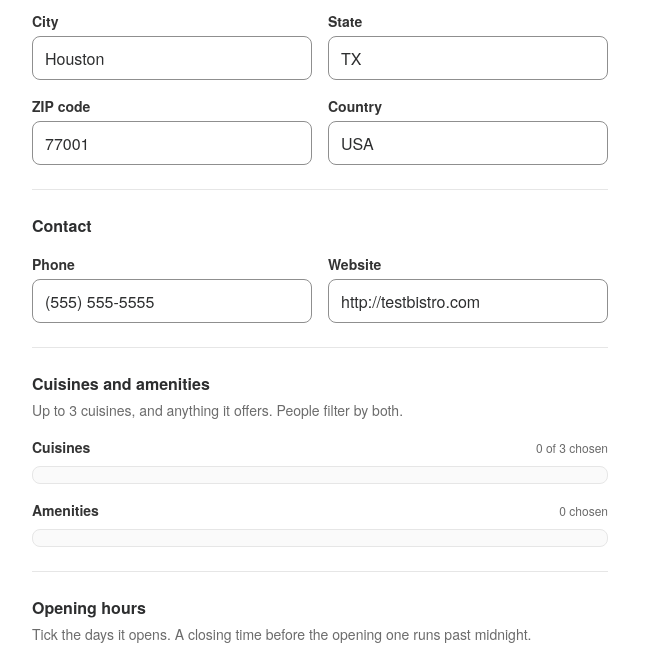
Test: client-side validation blocks the request entirely
(page scrolled)
Note: A website with no dot fails the shared rules.
Replace the text in the field showing "http://testbistro.com" with "notaurl" at (468, 301), box x1=328 y1=279 x2=608 y2=323
(page scrolled)
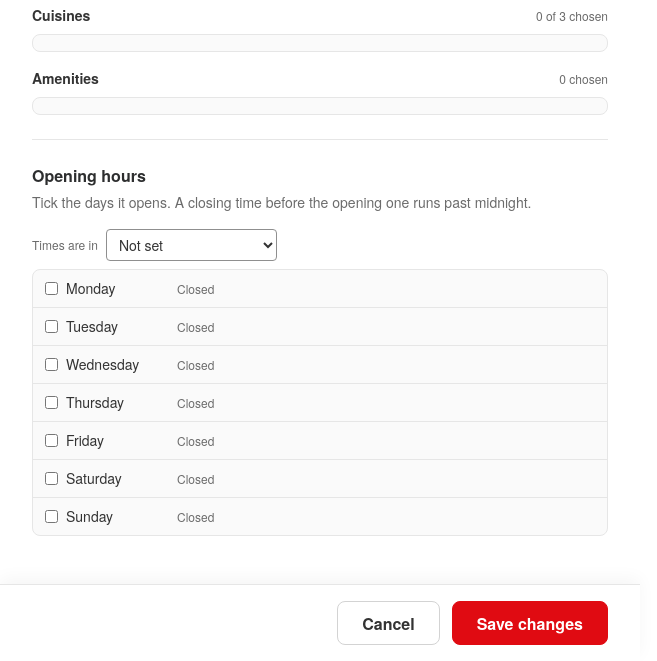
Click the button "Save changes".
click(530, 623)  # box x1=452 y1=601 x2=608 y2=645
(page scrolled)
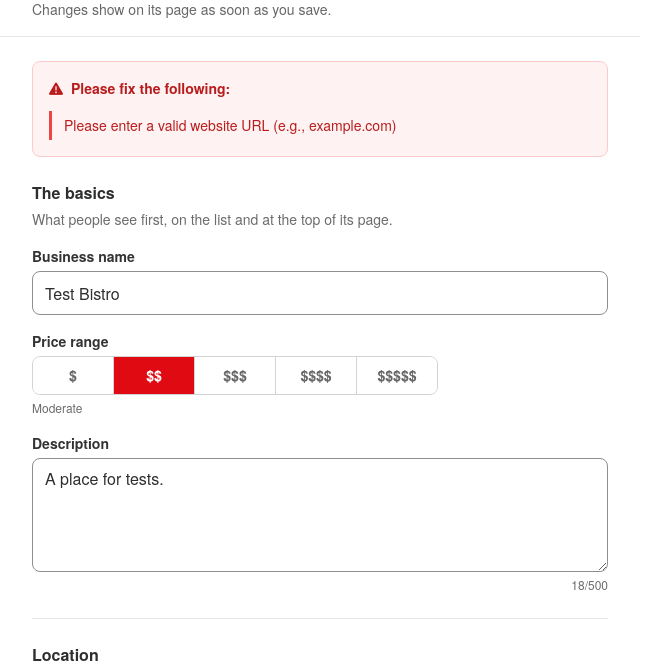
Now the list item "Please enter a valid website URL (e.g., example.com)" is shown, box x1=49 y1=111 x2=591 y2=140
